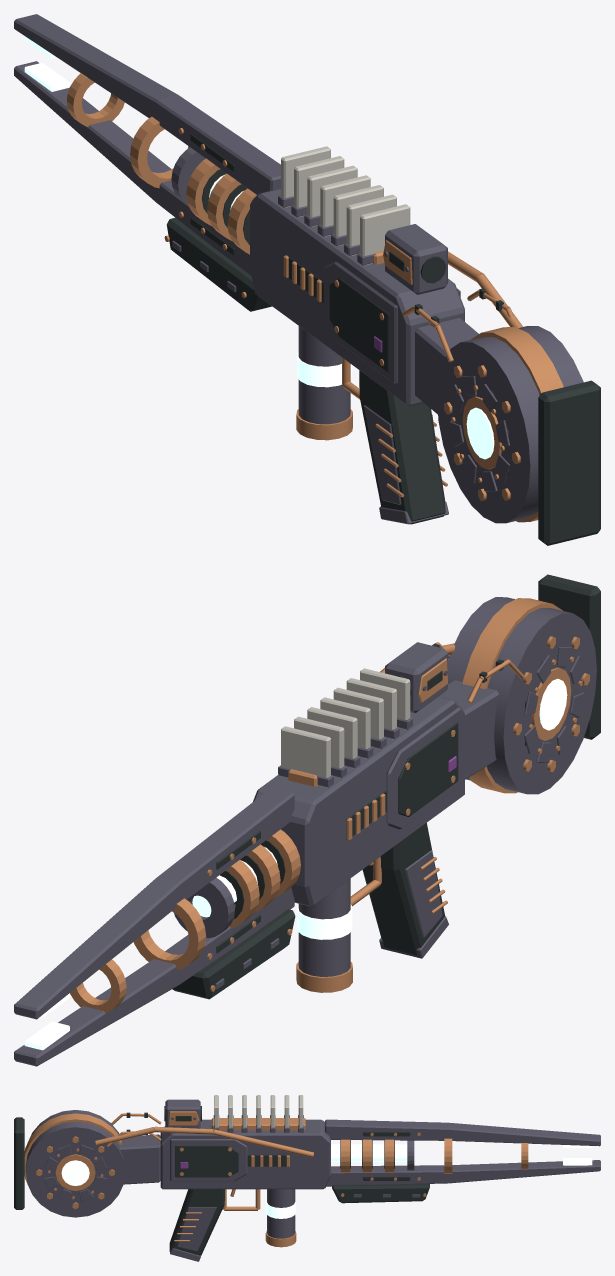
File: laser_3.glb
3 views of the same model, one above another, from view 1: azimuth 30°, elevation 25°; view 2: azimuth 150°, elevation 25°; view 3: azimuth 270°, elevation 25° (orthographic). The views are drawn at different scales.
Parts seen in each view (by area): view 1: Weapon_laser_v1; view 2: Weapon_laser_v1; view 3: Weapon_laser_v1.
Boxes of the visible parts, bbox=[...] form: Weapon_laser_v1: bbox=[14, 14, 600, 545]; Weapon_laser_v1: bbox=[14, 574, 600, 1066]; Weapon_laser_v1: bbox=[14, 1095, 600, 1261].
Bounding box in the file's own units: 0.087 × 0.2927 × 1.
